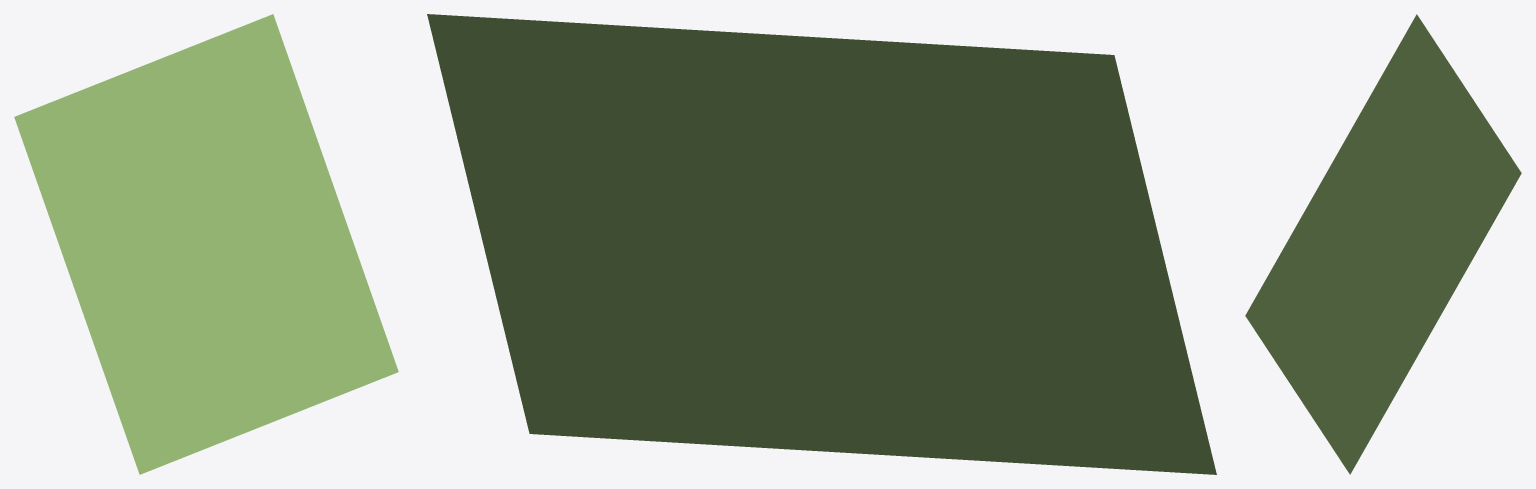
The model's file is basis.fbx.
The picture shows the model from 3 angles, left to right: view 1: azimuth 30°, elevation 25°; view 2: azimuth 150°, elevation 25°; view 3: azimuth 270°, elevation 25°; orthographic projection. The views are drawn at different scales.
Visible parts, largest first — view 1: basis; view 2: basis; view 3: basis.
Part boxes in pixels (x1,y1,x2,y2): basis: (14,14,398,474); basis: (427,14,1216,474); basis: (1245,14,1521,474).
Bounding box in the file's own units: 7.58e+07 × 6.52e+07 × 5.47e+07.
